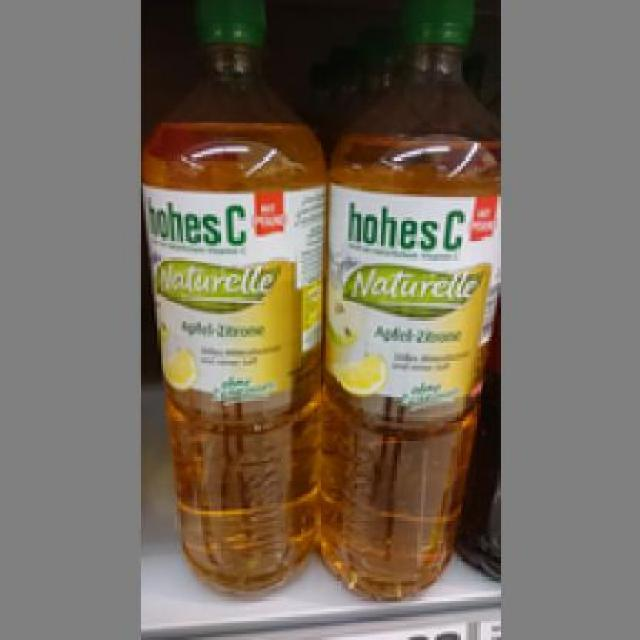Juice: (320, 0, 500, 597), (141, 0, 318, 592)
